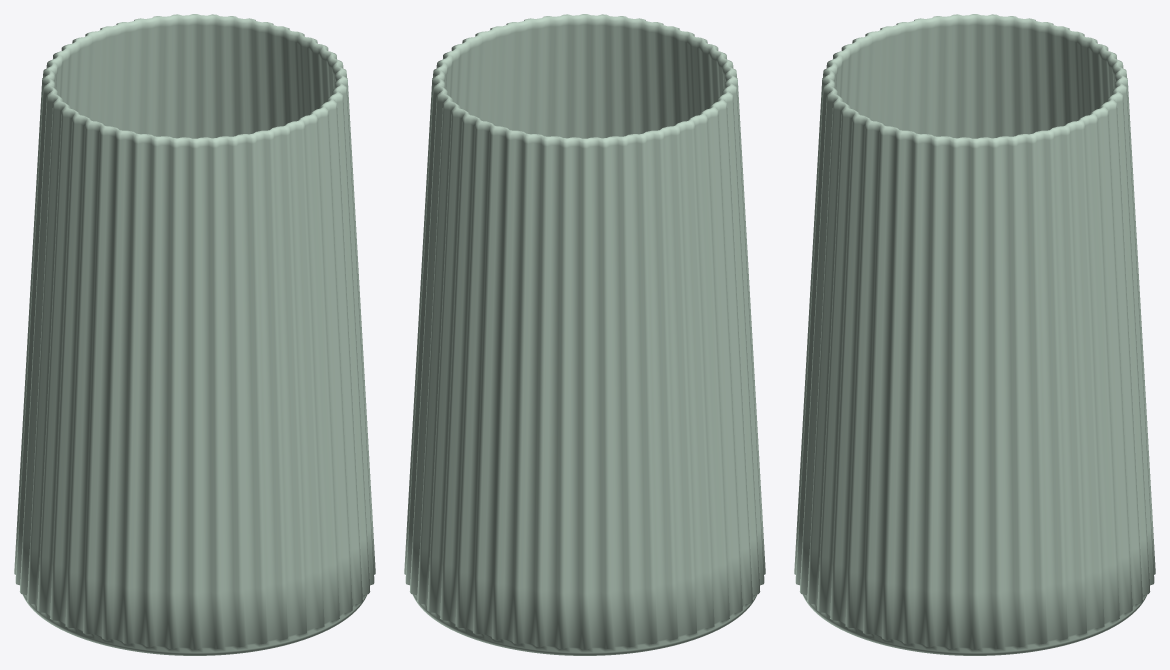
The model's file is green-ribbed-glass-vase.glb.
The picture shows the model from 3 angles, left to right: view 1: azimuth 30°, elevation 25°; view 2: azimuth 150°, elevation 25°; view 3: azimuth 270°, elevation 25°; orthographic projection.
Parts seen in each view (by area): view 1: vase.001; view 2: vase.001; view 3: vase.001.
Part boxes in pixels (x1,y1,x2,y2): vase.001: (14, 14, 375, 655); vase.001: (404, 14, 765, 655); vase.001: (794, 14, 1155, 655).
Bounding box in the file's own units: 0.1238 × 0.192 × 0.1238.
